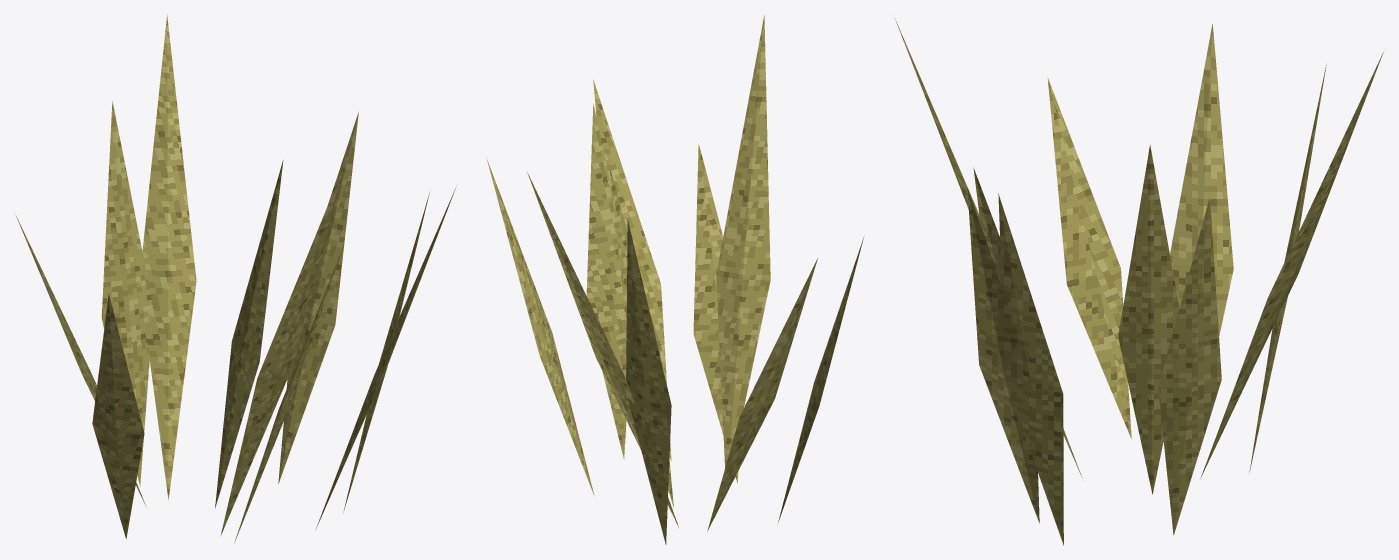
File: grass_dry.glb
3 renders of one model, left to right at view 1: azimuth 30°, elevation 25°; view 2: azimuth 150°, elevation 25°; view 3: azimuth 270°, elevation 25°, orthographic. The views are drawn at different scales.
Parts seen in each view (by area): view 1: Body.023; view 2: Body.023; view 3: Body.023.
Part boxes in pixels (box(x1,y1,x2,y2)): Body.023: box(16, 14, 455, 543); Body.023: box(486, 15, 864, 544); Body.023: box(894, 17, 1383, 545).
Bounding box in the file's own units: 0.3459 × 0.4073 × 0.3691.
Materials: 1 (1 with a texture image).
